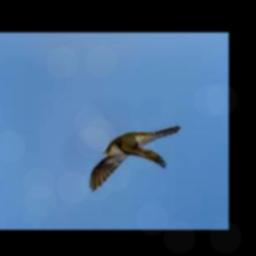Cuckoo: (90, 126, 182, 192)
